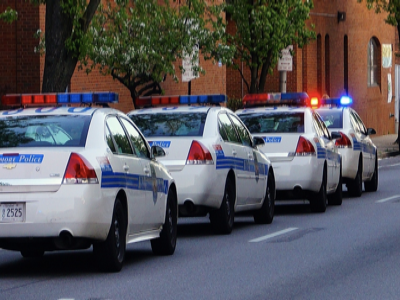licence: (0, 197, 27, 223)
